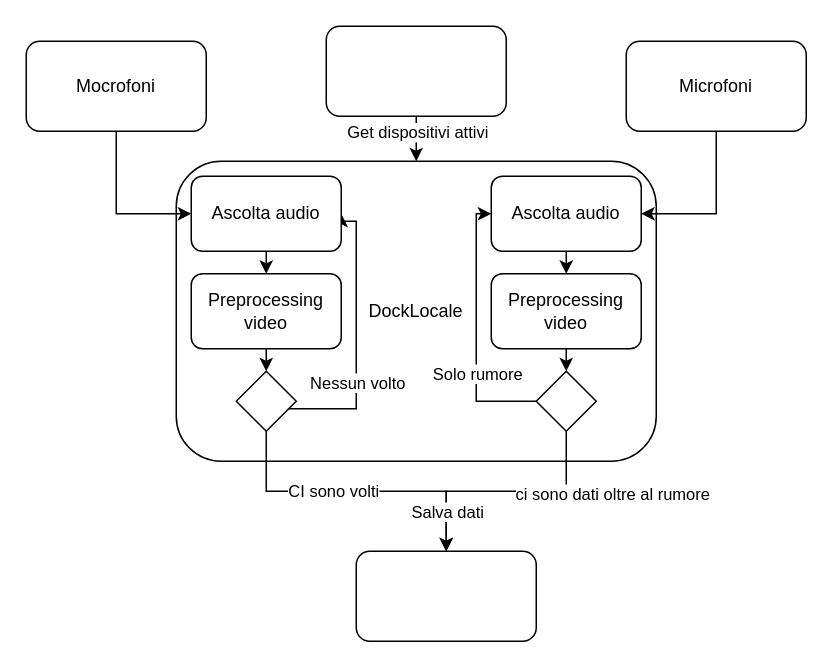
The diagram is 833 pixels wide and 668 high, and some of its shapes have lost their labels. Here are the shapes that lost their labels. From the top down, the centre of each, then its label:
the point at 415,70: Api
the point at 445,595: Udp server
